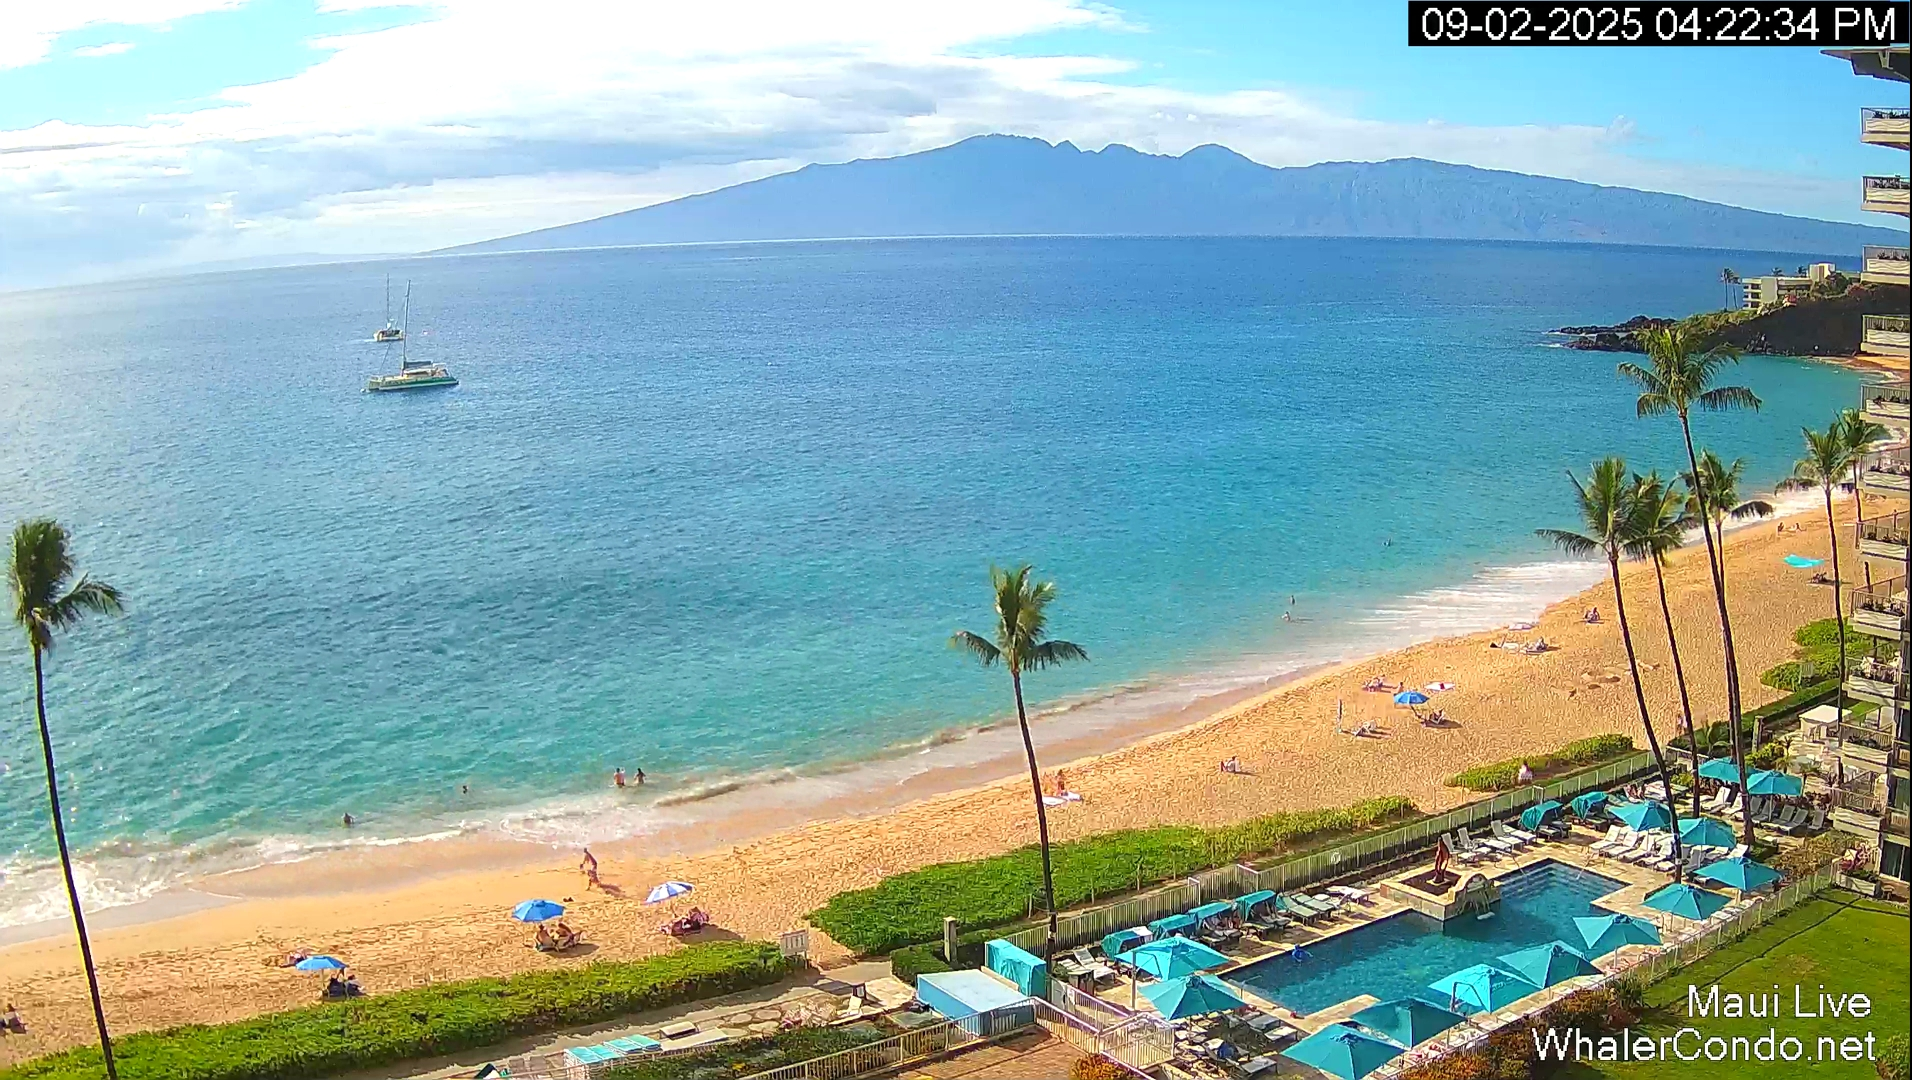boat: (363, 278, 459, 393), (365, 360, 459, 392), (374, 273, 404, 343), (374, 328, 405, 342)
person: (579, 848, 599, 891), (2, 1004, 27, 1035), (557, 922, 587, 947), (536, 924, 559, 951), (345, 974, 365, 997), (1225, 754, 1241, 773), (613, 767, 626, 788), (1056, 769, 1066, 796), (1584, 606, 1600, 622), (633, 768, 647, 784), (342, 812, 355, 825), (633, 768, 640, 786), (1282, 611, 1291, 622), (1289, 595, 1296, 606)
